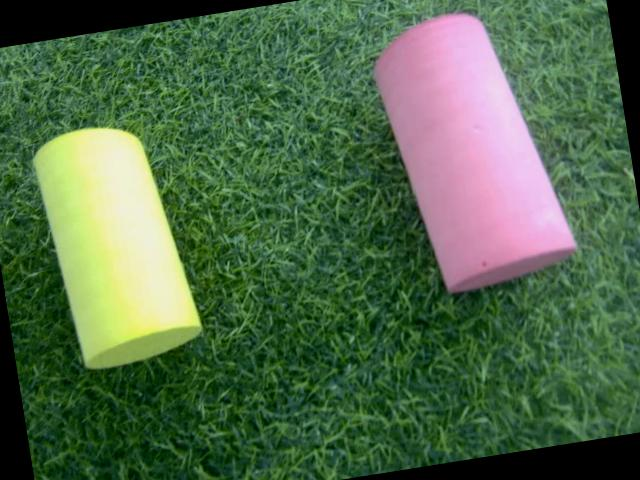red_cylinder: (352, 0, 583, 304)
yellow_cylinder: (21, 106, 222, 375)
